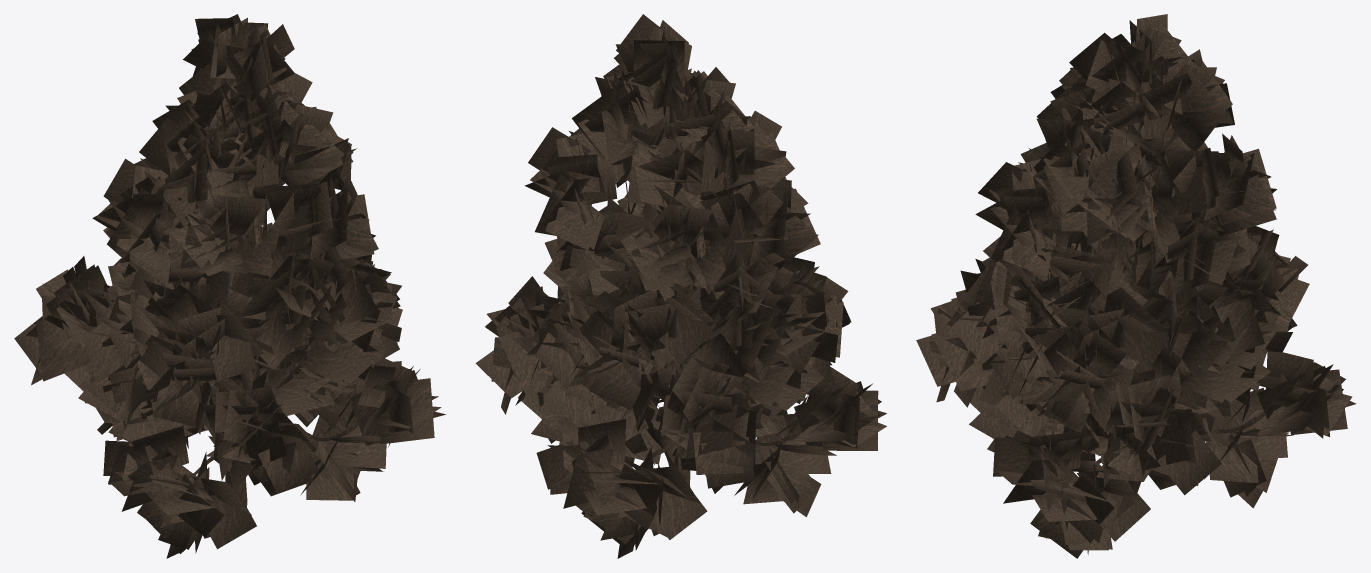
Rendered from Tree.fbx.
The picture shows the model from 3 angles, left to right: view 1: azimuth 30°, elevation 25°; view 2: azimuth 150°, elevation 25°; view 3: azimuth 270°, elevation 25°; orthographic projection. The views are drawn at different scales.
Parts seen in each view (by area): view 1: Object_5342, Object_5340; view 2: Object_5342, Object_5340; view 3: Object_5342, Object_5340.
Part boxes in pixels (left/top/right/bottom): Object_5342: left=14, top=14, right=446, bottom=558; Object_5340: left=177, top=168, right=358, bottom=506; Object_5342: left=475, top=14, right=886, bottom=558; Object_5340: left=590, top=145, right=802, bottom=486; Object_5342: left=916, top=14, right=1356, bottom=558; Object_5340: left=1069, top=122, right=1266, bottom=483.
Size of the model in its own units: 629 by 872 by 694.
2 materials, 2 textured.
